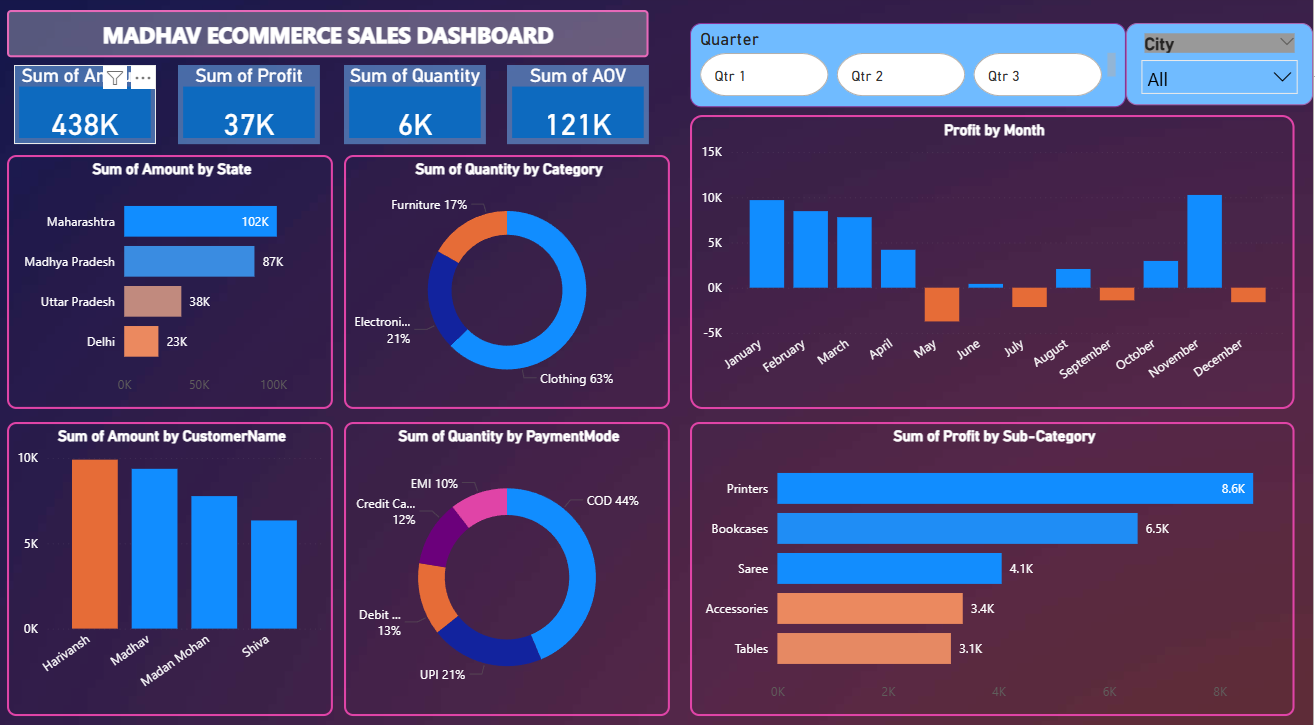

The dashboard page shown, as its layout file describes it:
{"tool":"powerbi","page":{"name":"Page 1","canvas":[1280,720],"ordinal":0},"visuals":[{"type":"textbox","box":[9.7,13.6,624.4,45.7],"z":0},{"type":"lineClusteredColumnComboChart","title":"Profit by Month","fields":{"Category":["Orders.Order Date.Variation.Date Hierarchy.Month"],"Y":["Details.Profit"]},"box":[674,115.7,588.4,286],"z":1000},{"type":"barChart","title":"Sum of Profit by Sub-Category","fields":{"Category":["Details.Sub-Category"],"Y":["Details.Profit"]},"box":[674,414.3,588.4,286],"z":2000},{"type":"donutChart","title":"Sum of Quantity by PaymentMode","fields":{"Y":["Details.Quantity"],"Category":["Details.PaymentMode"]},"box":[337.5,414.3,317.1,286],"z":3000},{"type":"donutChart","title":"Sum of Quantity by Category","fields":{"Y":["Details.Quantity"],"Category":["Details.Category"]},"box":[337.5,154.7,317.1,247.1],"z":4000},{"type":"barChart","title":"Sum of Amount by State","fields":{"Category":["Orders.State"],"Y":["Details.Amount"]},"box":[9.7,154.7,317.1,247.1],"z":5000},{"type":"lineStackedColumnComboChart","title":"Sum of Amount by CustomerName","fields":{"Category":["Orders.CustomerName"],"Y":["Details.Amount"]},"box":[9.7,414.3,317.1,286],"z":6000},{"type":"cardVisual","title":"Sum of Amount","fields":{"Data":["Details.Amount"]},"box":[16.5,67.1,138.1,76.8],"z":7000},{"type":"cardVisual","title":"Sum of Profit","fields":{"Data":["Details.Profit"]},"box":[176,67.1,138.1,76.8],"z":8000},{"type":"cardVisual","title":"Sum of Quantity","fields":{"Data":["Details.Quantity"]},"box":[337.5,67.1,138.1,76.8],"z":9000},{"type":"cardVisual","title":"Sum of AOV","fields":{"Data":["Details.AOV"]},"box":[496,67.1,138.1,76.8],"z":10000},{"type":"advancedSlicerVisual","fields":{"Values":["Orders.Order Date.Variation.Date Hierarchy.Quarter"]},"box":[674,26.3,424.1,81.7],"z":11000},{"type":"slicer","fields":{"Values":["Orders.City"]},"box":[1098.1,26.3,181.9,79.8],"z":11001}]}

Visuals, with their boxes in screenshot pixels (x1, y1, x2, y2), scaled from the page's 1280x720 canvas onto the 1315x725 screenshot:
textbox: 10 14 651 60
"Profit by Month" lineClusteredColumnComboChart: 692 117 1297 404
"Sum of Profit by Sub-Category" barChart: 692 417 1297 705
"Sum of Quantity by PaymentMode" donutChart: 347 417 672 705
"Sum of Quantity by Category" donutChart: 347 156 672 405
"Sum of Amount by State" barChart: 10 156 336 405
"Sum of Amount by CustomerName" lineStackedColumnComboChart: 10 417 336 705
"Sum of Amount" cardVisual: 17 68 159 145
"Sum of Profit" cardVisual: 181 68 323 145
"Sum of Quantity" cardVisual: 347 68 489 145
"Sum of AOV" cardVisual: 510 68 651 145
advancedSlicerVisual - Orders.Order Date.Variation.Date Hierarchy.Quarter: 692 26 1128 109
slicer - Orders.City: 1128 26 1314 107
